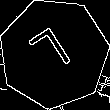L_SE: (27, 24, 81, 83)
